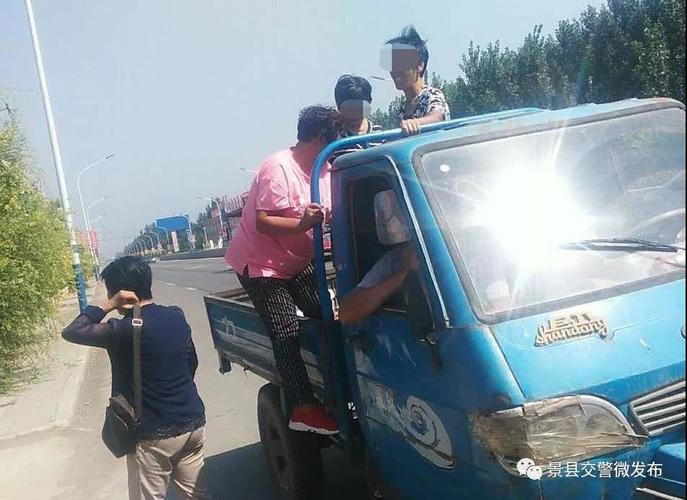driver: (342, 213, 459, 346)
overloading: (205, 29, 680, 497)
passenger: (230, 98, 352, 453), (376, 27, 465, 149), (326, 70, 388, 164)
